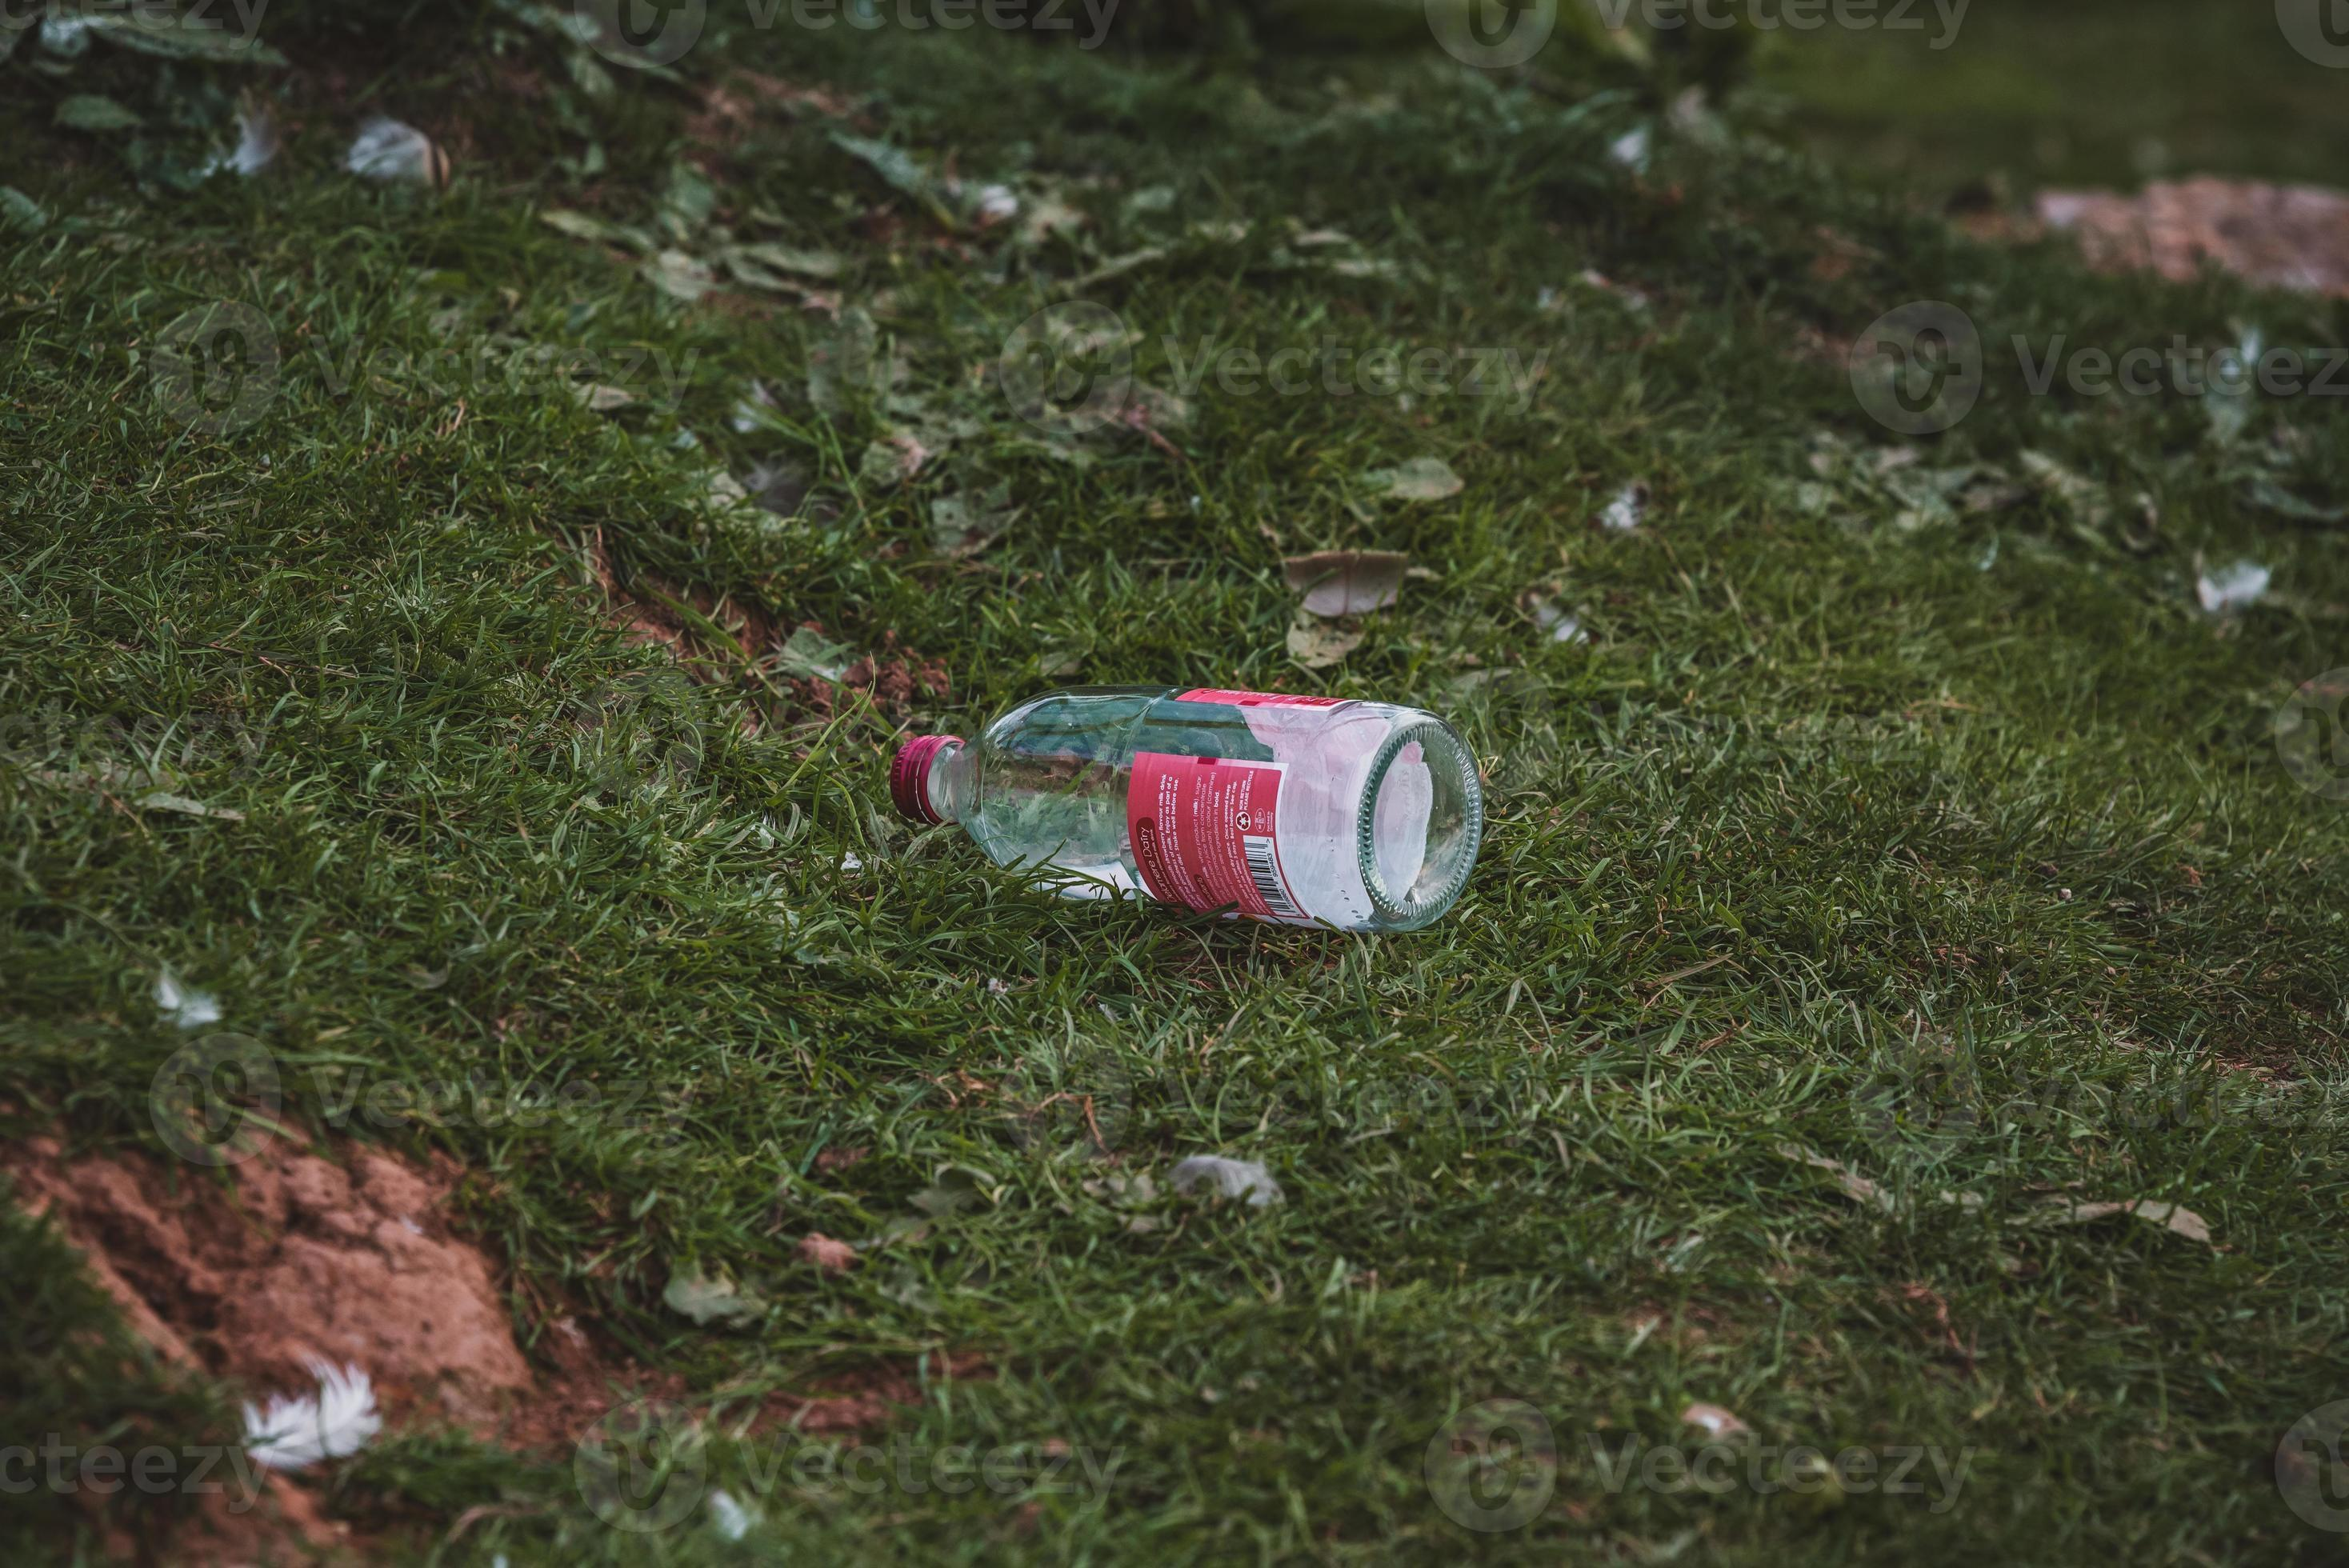glass_bottle: (835, 618, 1516, 978)
